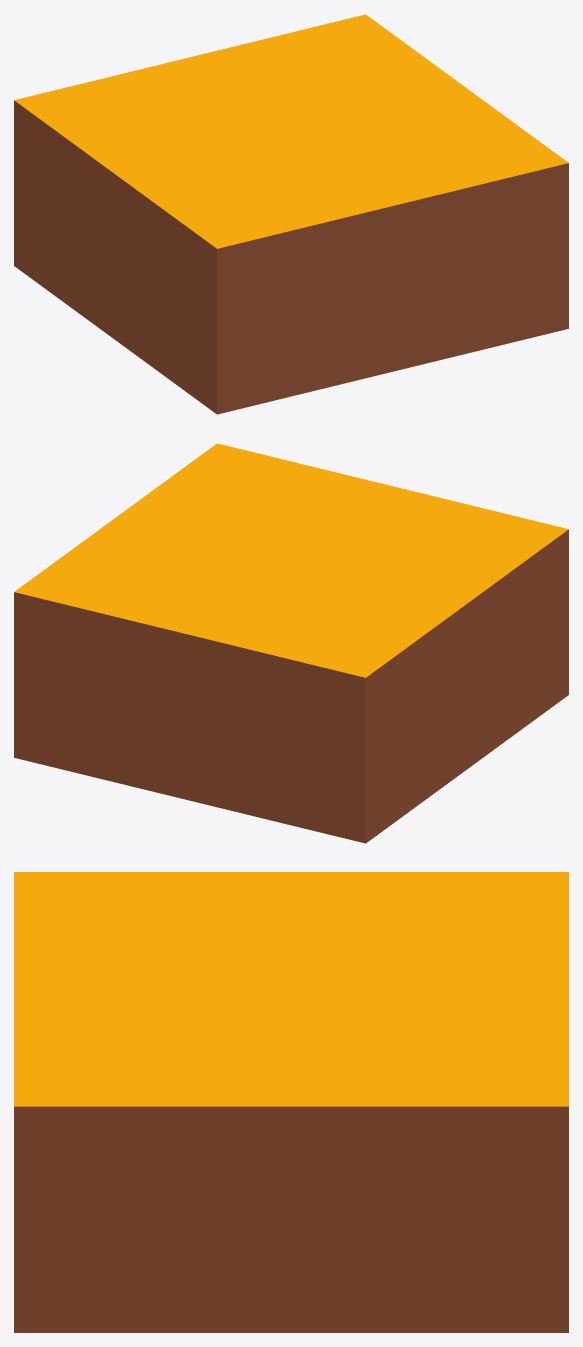
The model's file is tile_island_dirt.glb.
3 renders of one model, top to bottom at view 1: azimuth 30°, elevation 25°; view 2: azimuth 150°, elevation 25°; view 3: azimuth 270°, elevation 25°, orthographic. The views are drawn at different scales.
Visible parts, largest first — view 1: tile_island_dirt; view 2: tile_island_dirt; view 3: tile_island_dirt.
Part boxes in pixels (<box>): tile_island_dirt: <box>14,14,568,414</box>; tile_island_dirt: <box>14,443,568,843</box>; tile_island_dirt: <box>14,872,568,1332</box>.
Bounding box in the file's own units: 0.8 × 0.36 × 0.8.
Materials: 1 (1 with a texture image).
